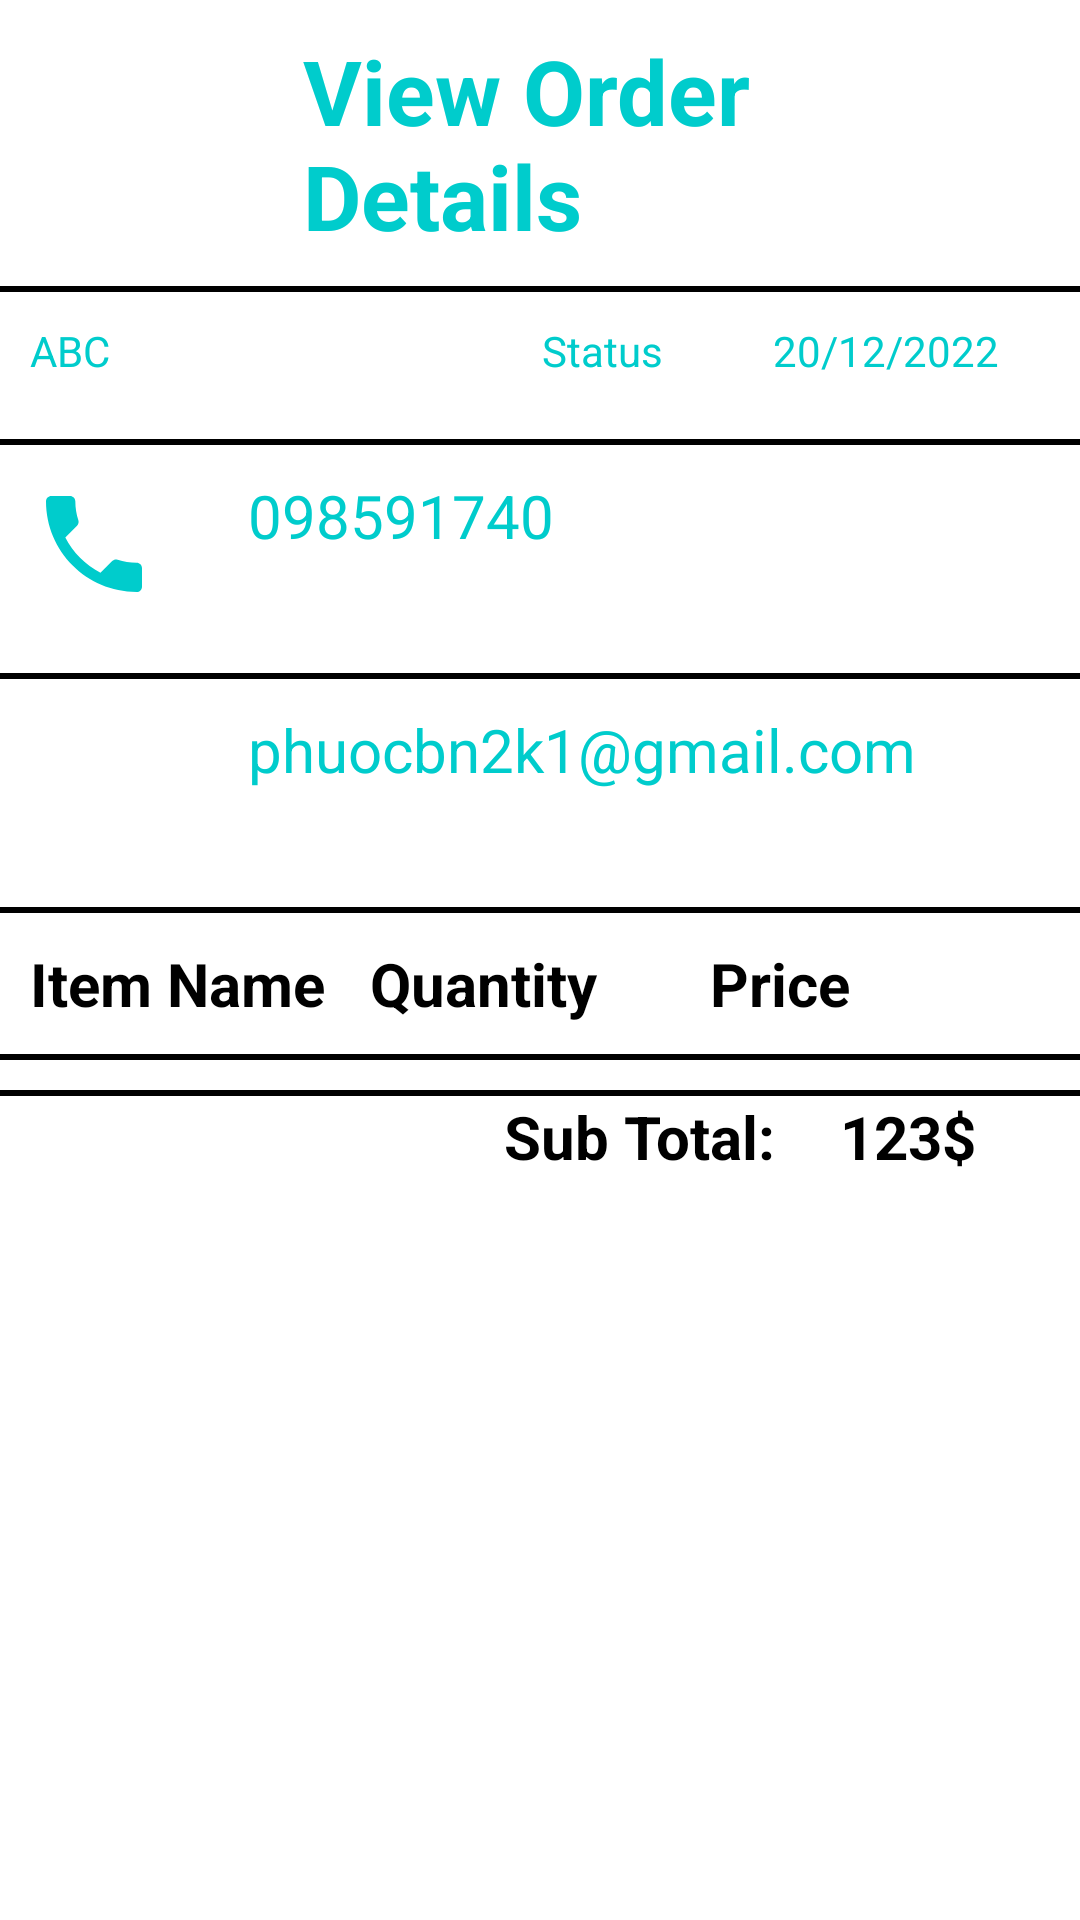

Screen size 1080px x 1920px. Icon name, then its box in pixels as [x1=x1, y1=y1, x2=x2, y2=y2]:
phone: [x1=46, y1=496, x2=142, y2=592]
